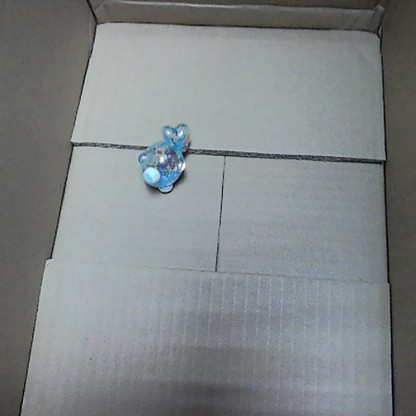bluefish: (136, 117, 192, 195)
